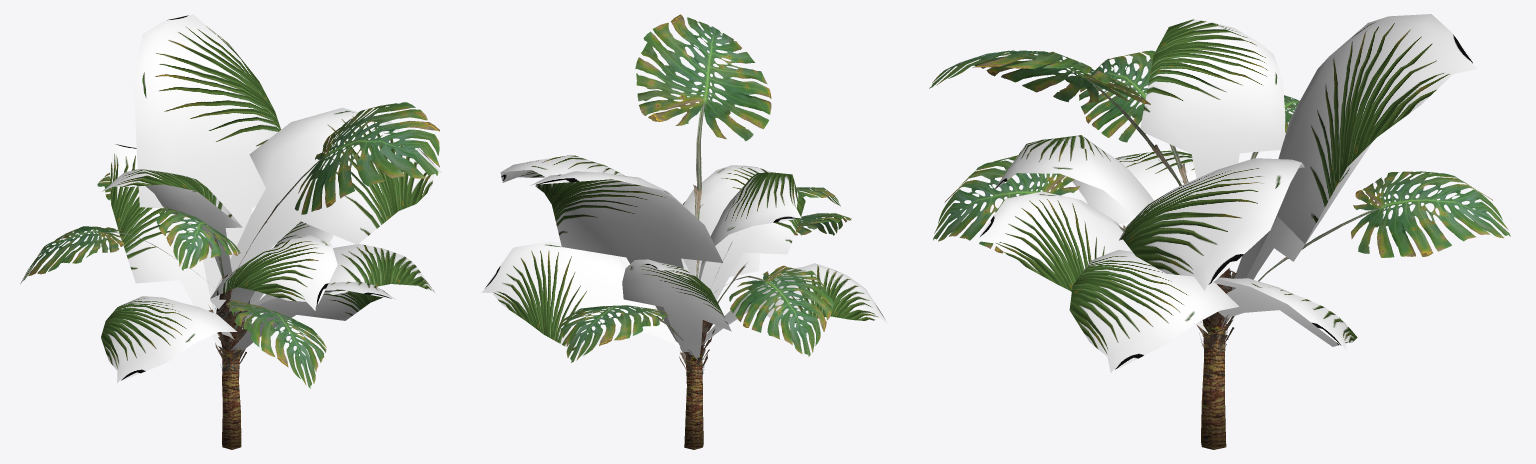
File: Ceriman_bush.fbx
The picture shows the model from 3 angles, left to right: view 1: azimuth 30°, elevation 25°; view 2: azimuth 150°, elevation 25°; view 3: azimuth 270°, elevation 25°; orthographic projection. The views are drawn at different scales.
Visible parts, largest first — view 1: LOD0; view 2: LOD0; view 3: LOD0.
Part boxes in pixels (x1=…): LOD0: x1=20, y1=14, x2=441, y2=449; LOD0: x1=481, y1=14, x2=887, y2=449; LOD0: x1=929, y1=14, x2=1510, y2=449.
Size of what is drawn, in the model's own units: 10.41 by 9.36 by 11.49.
